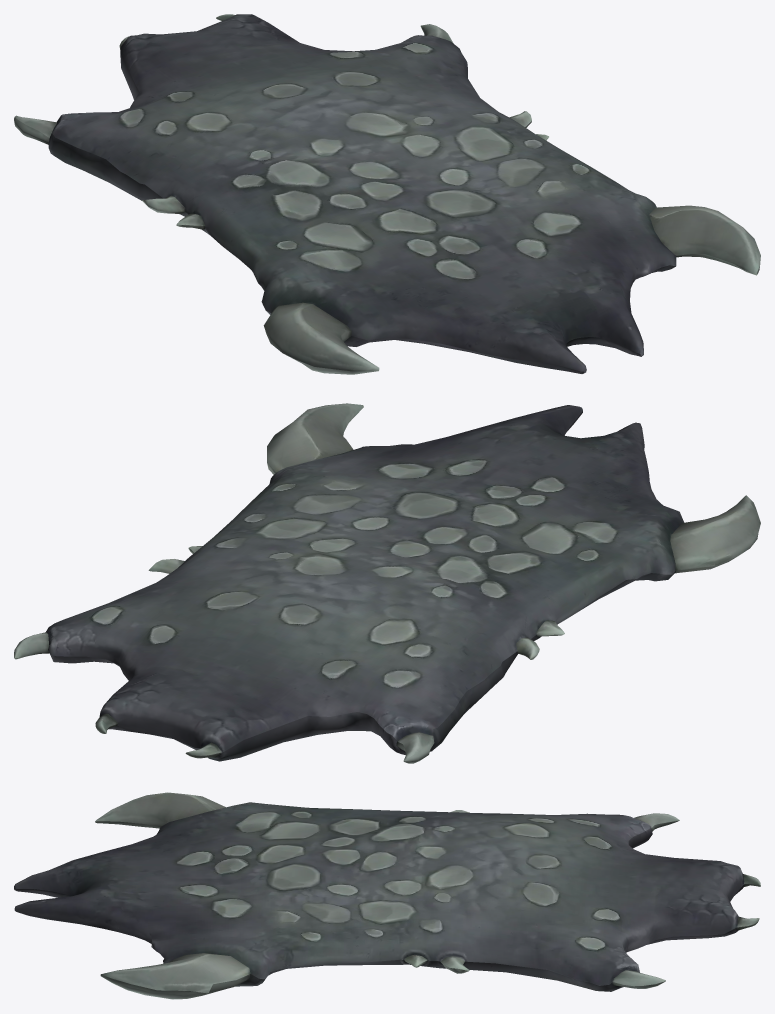
The picture shows the model from 3 angles, top to bottom: view 1: azimuth 30°, elevation 25°; view 2: azimuth 150°, elevation 25°; view 3: azimuth 270°, elevation 25°; orthographic projection. The views are drawn at different scales.
Parts seen in each view (by area): view 1: SM_Black_Dragonhide_Leather_01_LOD0; view 2: SM_Black_Dragonhide_Leather_01_LOD0; view 3: SM_Black_Dragonhide_Leather_01_LOD0.
Boxes of the visible parts, x1,y1,x2,y2 form: SM_Black_Dragonhide_Leather_01_LOD0: (14, 14, 760, 374); SM_Black_Dragonhide_Leather_01_LOD0: (14, 403, 760, 763); SM_Black_Dragonhide_Leather_01_LOD0: (14, 792, 760, 999).
Size of the model in its own units: 0.5761 by 0.0844 by 0.9673.
Materials: 1 (1 with a texture image).
